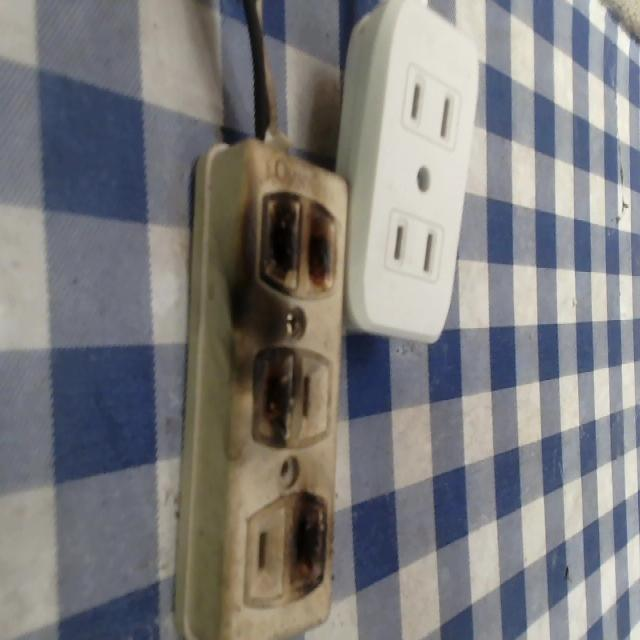-: (251, 181, 339, 308), (242, 344, 299, 441), (285, 490, 336, 590)
